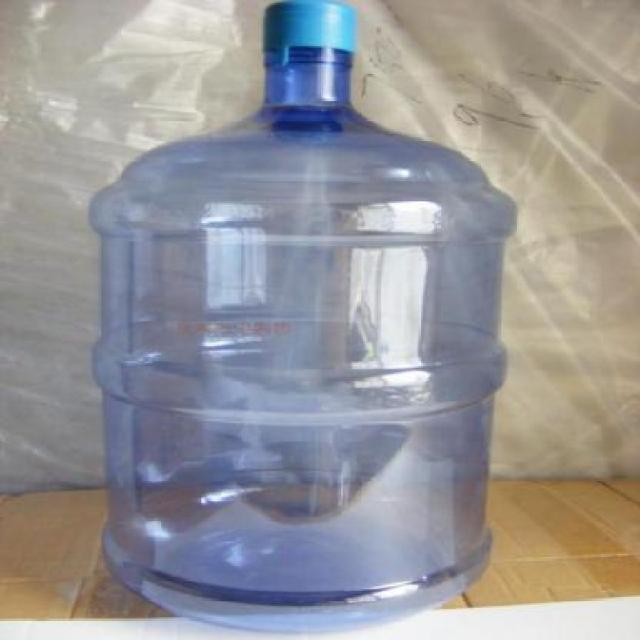coolerbottle: (88, 0, 526, 640)
